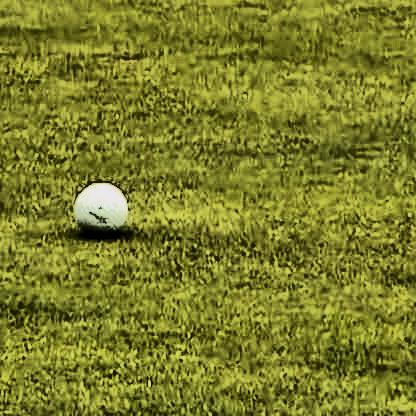golfball: (70, 180, 127, 236)
